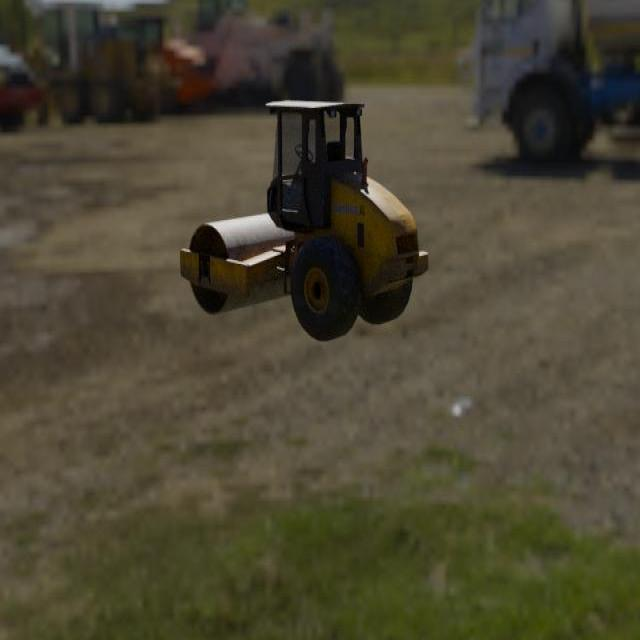Roller: (179, 100, 428, 341)
